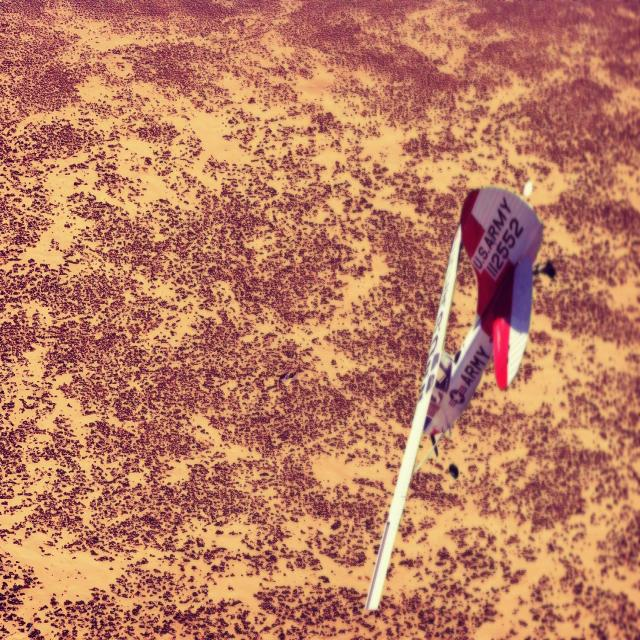airplane: (363, 184, 542, 611)
